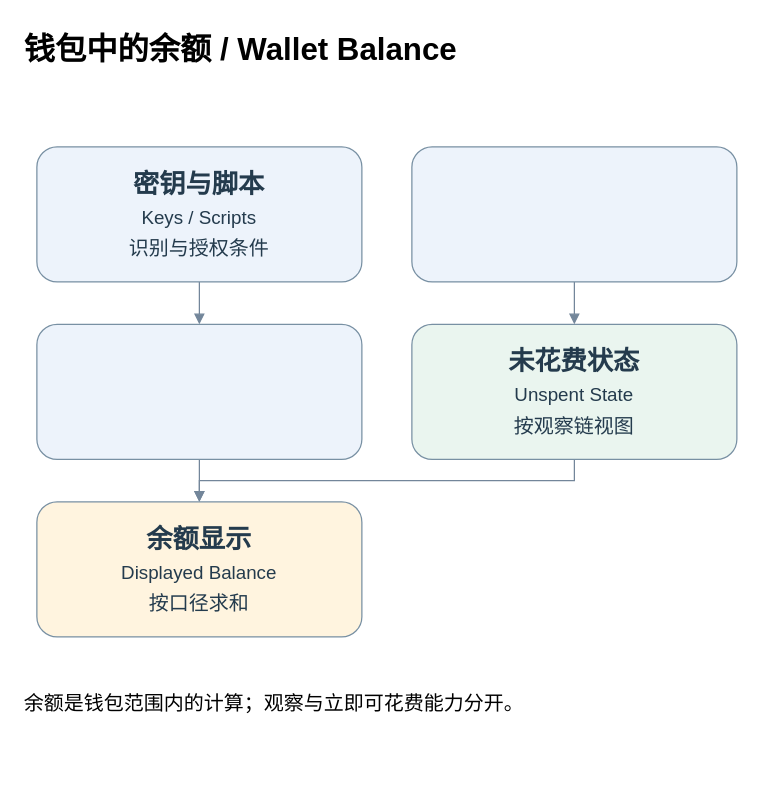
Image size: 773x791. Some labels were removed from this diagram. Here are the shapes that lost their labels. From the top down, the box of each, then its label:
(411, 146, 737, 282): 历史输出 Created Outputs 金额 + 花费条件
(36, 323, 362, 459): 可识别输出 Wallet Scope 并非全网账户
